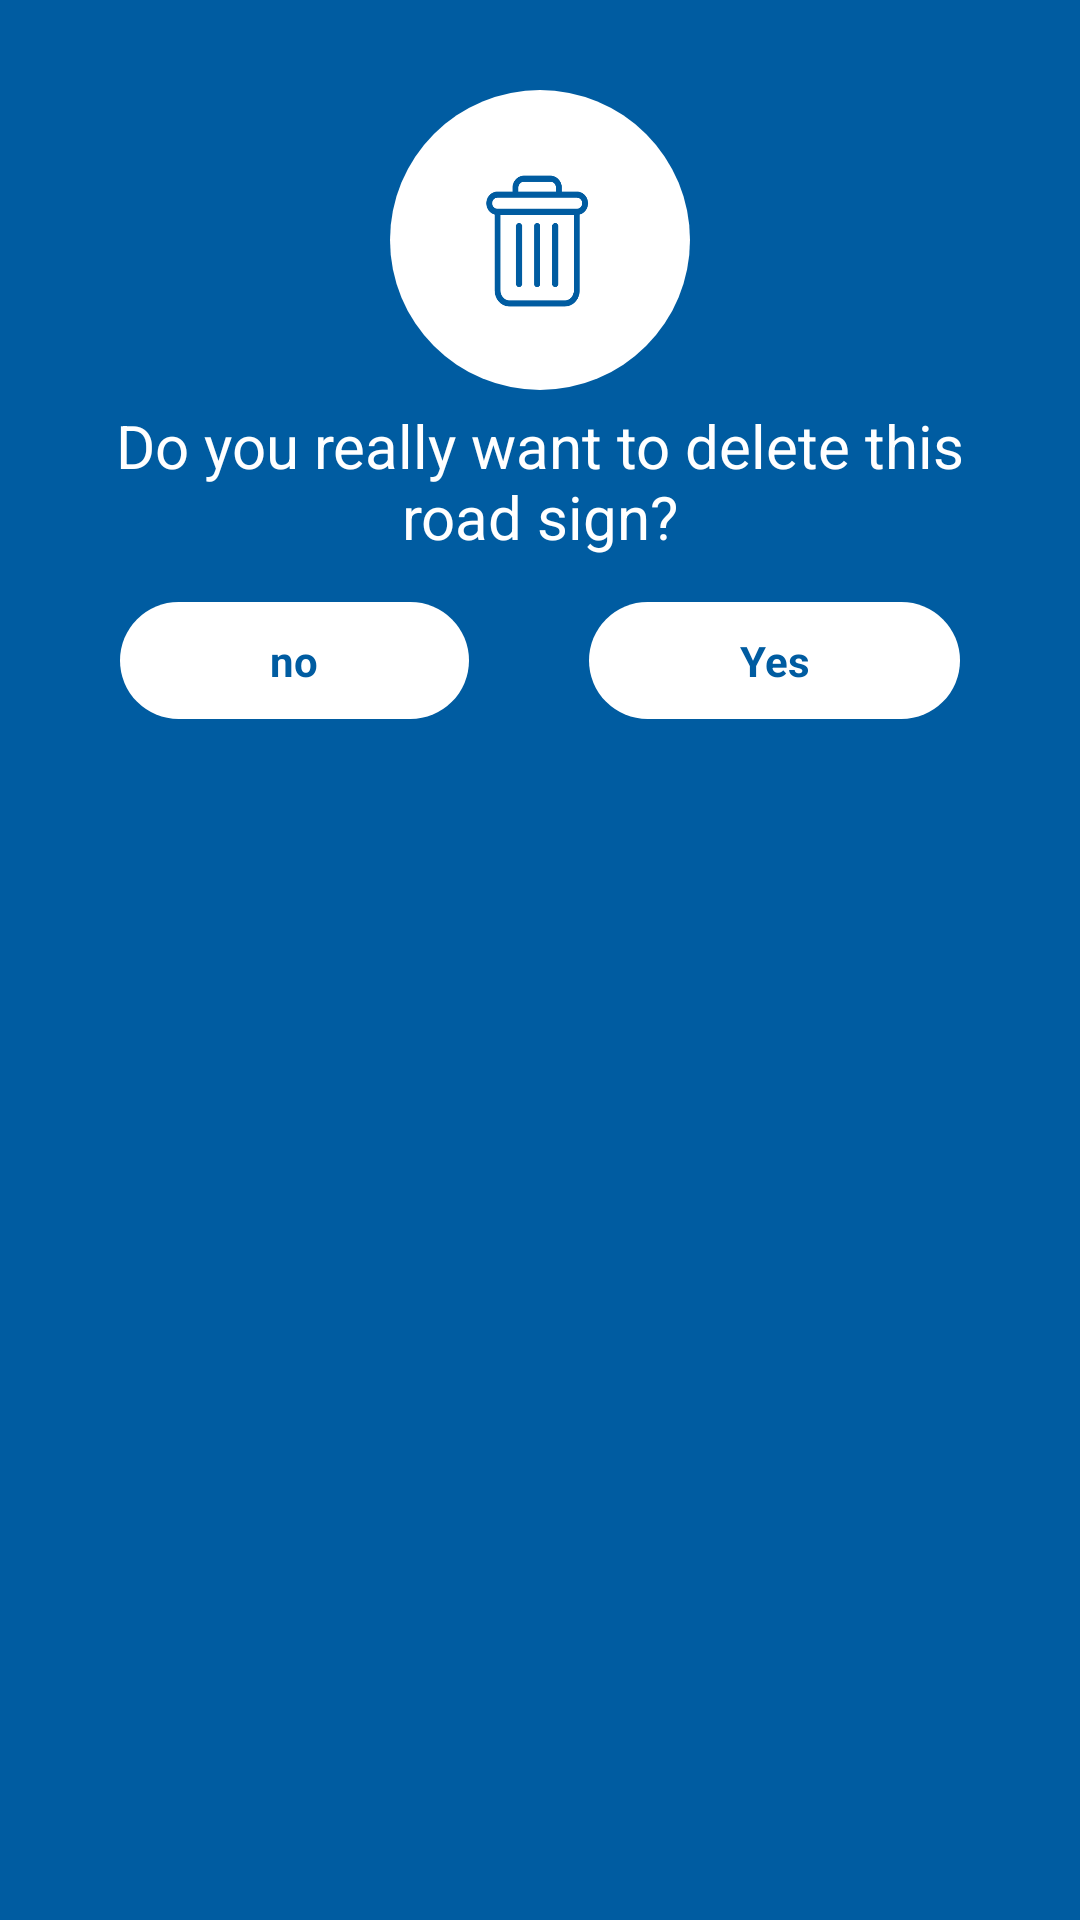

Point at icon controls on the screen. Image size 1080×1920, points as [x,y].
trash: [540,240]
